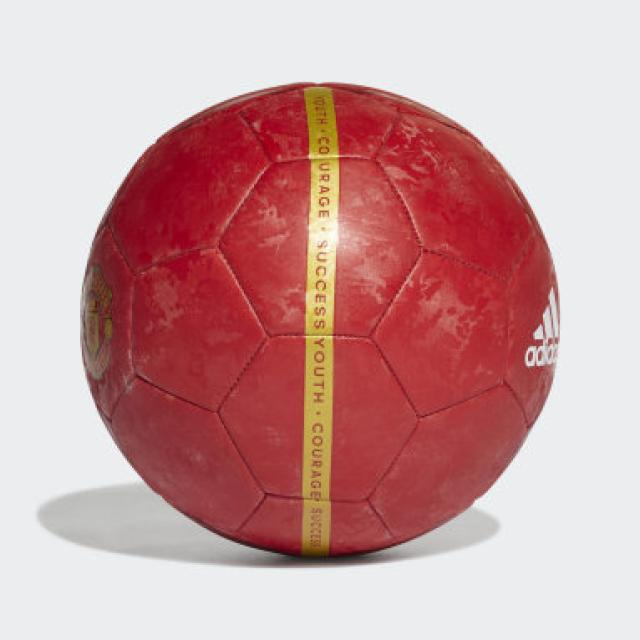soccer ball: (80, 82, 560, 558)
